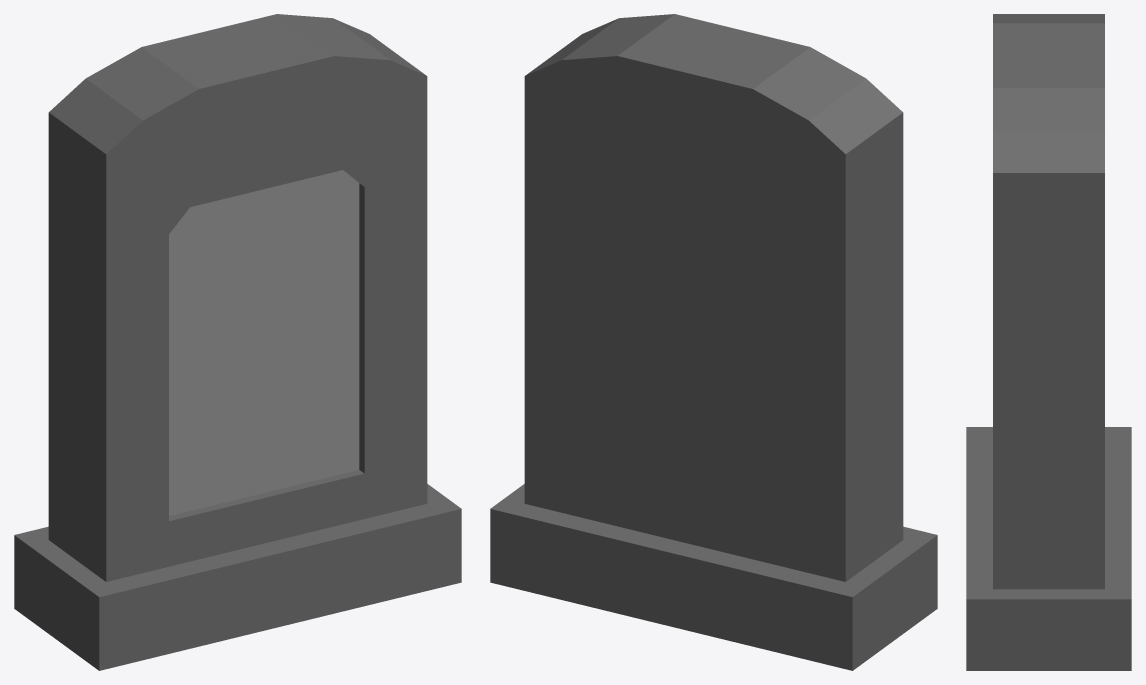
The model's file is Headstone_2_5.fbx.
3 views of the same model, side by side, from view 1: azimuth 30°, elevation 25°; view 2: azimuth 150°, elevation 25°; view 3: azimuth 270°, elevation 25° (orthographic). The views are drawn at different scales.
Visible parts, largest first — view 1: Headstone_2_5; view 2: Headstone_2_5; view 3: Headstone_2_5.
Boxes of the visible parts, x1,y1,x2,y2 form: Headstone_2_5: [14, 14, 461, 670]; Headstone_2_5: [490, 14, 937, 670]; Headstone_2_5: [966, 14, 1131, 670].
Bounding box in the file's own units: 47.03 × 67.48 × 19.11.
